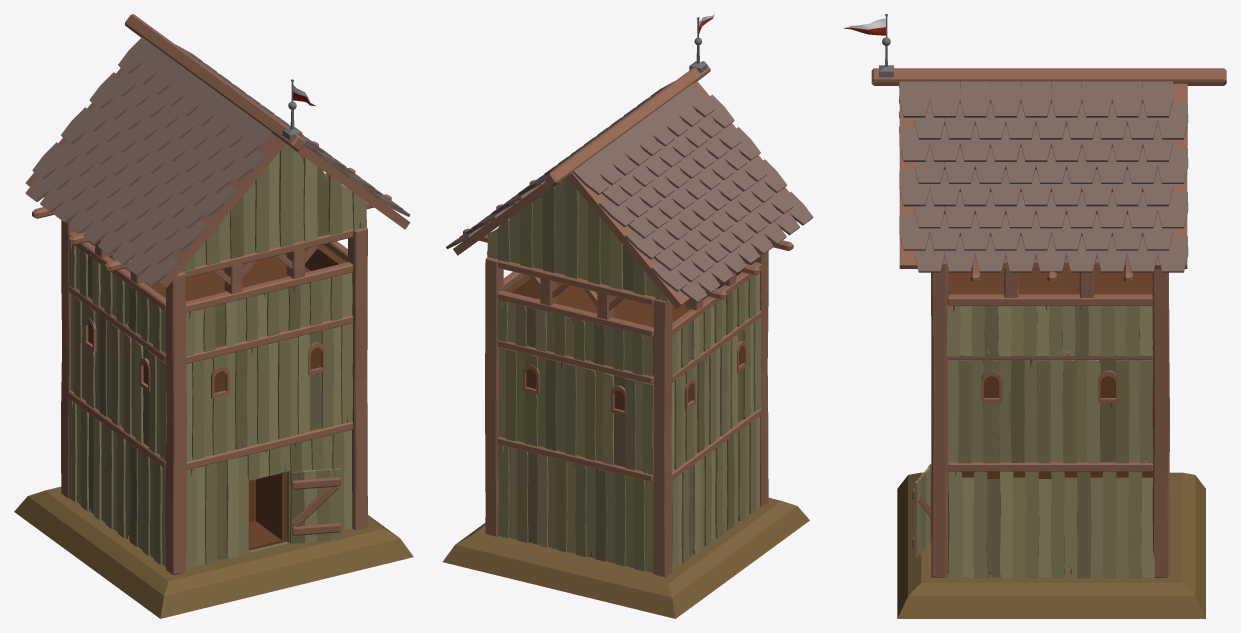
The model's file is Celtic_Tower.fbx.
The picture shows the model from 3 angles, left to right: view 1: azimuth 30°, elevation 25°; view 2: azimuth 150°, elevation 25°; view 3: azimuth 270°, elevation 25°; orthographic projection. The views are drawn at different scales.
Visible parts, largest first — view 1: Plane.116, Cube.104, Plane.108, Plane.103, Plane.044, Plane.114, Plane.106, Cube.070, Cube.121, Cube.076, Plane.094, Plane.030 (+24 smaller); view 2: Plane.116, Cube.104, Plane.104, Plane.107, Plane.056, Plane.115, Plane.058, Plane.103, Plane.106, Cube.087, Plane.095, Cube.093 (+19 smaller); view 3: Plane.117, Cube.104, Plane.105, Plane.109, Plane.089, Plane.092, Cube.121, Plane.111, Cube.076, Cube.093, Plane.093, Cube.099 (+6 smaller).
Part boxes in pixels (x1=…): Plane.116: x1=25, y1=37, x2=272, y2=286; Cube.104: x1=14, y1=486, x2=413, y2=618; Plane.108: x1=192, y1=323, x2=352, y2=460; Plane.103: x1=68, y1=398, x2=162, y2=564; Plane.044: x1=186, y1=326, x2=341, y2=460; Plane.114: x1=182, y1=144, x2=366, y2=272; Plane.106: x1=74, y1=296, x2=166, y2=461; Cube.070: x1=165, y1=271, x2=186, y2=574; Cube.121: x1=88, y1=241, x2=346, y2=558; Cube.076: x1=348, y1=227, x2=367, y2=530; Plane.094: x1=181, y1=150, x2=353, y2=270; Plane.030: x1=196, y1=430, x2=352, y2=565; Plane.116: x1=573, y1=83, x2=813, y2=303; Cube.104: x1=443, y1=498, x2=809, y2=618; Plane.104: x1=498, y1=444, x2=645, y2=571; Plane.107: x1=505, y1=349, x2=653, y2=475; Plane.056: x1=509, y1=447, x2=653, y2=572; Plane.115: x1=497, y1=177, x2=668, y2=303; Plane.058: x1=499, y1=347, x2=642, y2=471; Plane.103: x1=672, y1=419, x2=756, y2=571; Plane.106: x1=674, y1=318, x2=761, y2=469; Cube.087: x1=653, y1=298, x2=672, y2=577; Plane.095: x1=487, y1=178, x2=655, y2=297; Cube.093: x1=485, y1=257, x2=503, y2=536; Plane.117: x1=899, y1=81, x2=1188, y2=272; Cube.104: x1=897, y1=472, x2=1205, y2=618; Plane.105: x1=948, y1=471, x2=1141, y2=578; Plane.109: x1=958, y1=359, x2=1153, y2=463; Plane.089: x1=962, y1=477, x2=1154, y2=577; Plane.092: x1=948, y1=359, x2=1139, y2=462; Cube.121: x1=947, y1=233, x2=1153, y2=573; Plane.111: x1=946, y1=305, x2=1139, y2=356; Cube.076: x1=931, y1=256, x2=948, y2=577; Cube.093: x1=1152, y1=269, x2=1169, y2=577; Plane.093: x1=960, y1=305, x2=1152, y2=355; Cube.099: x1=871, y1=68, x2=1226, y2=85.
Size of the model in its own units: 1089 by 1871 by 1207.
